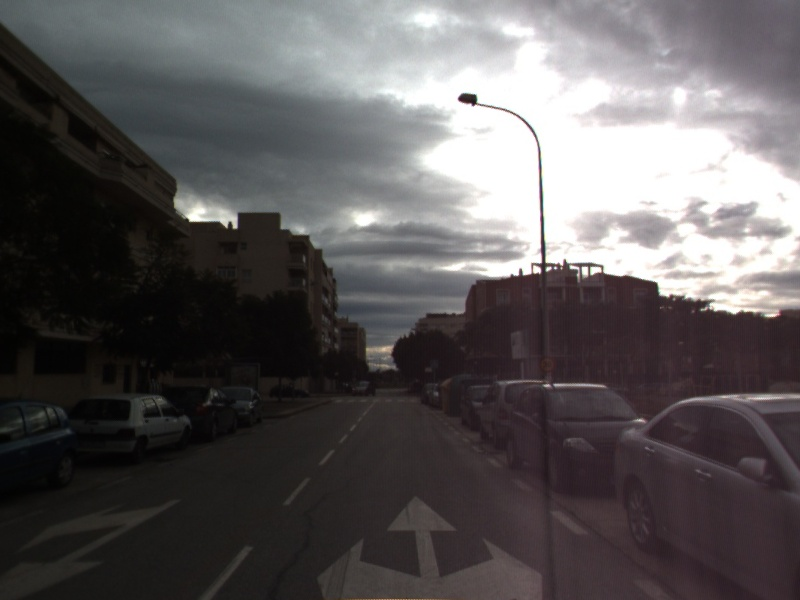STRAIGHT_LEFT_RIGHT: (312, 491, 549, 600)
